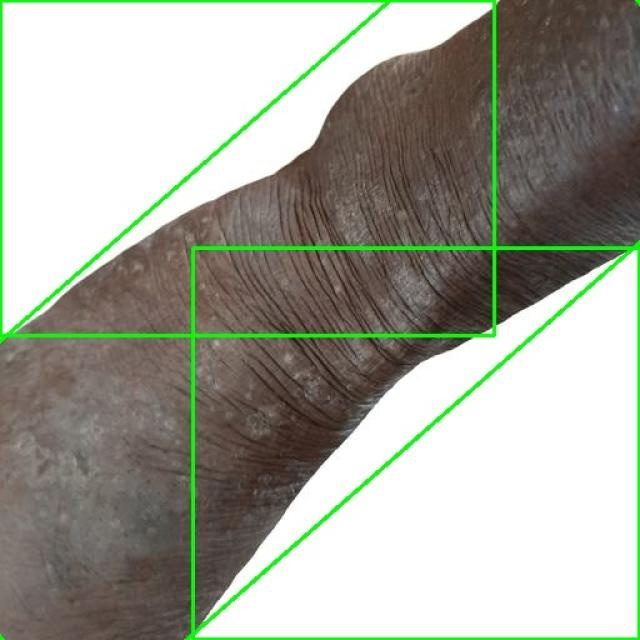Contact Dermatitis: (0, 0, 640, 640), (192, 248, 639, 639), (0, 0, 494, 335)
